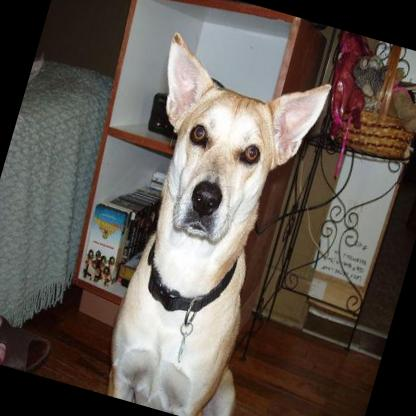dingo: (72, 31, 333, 416)
